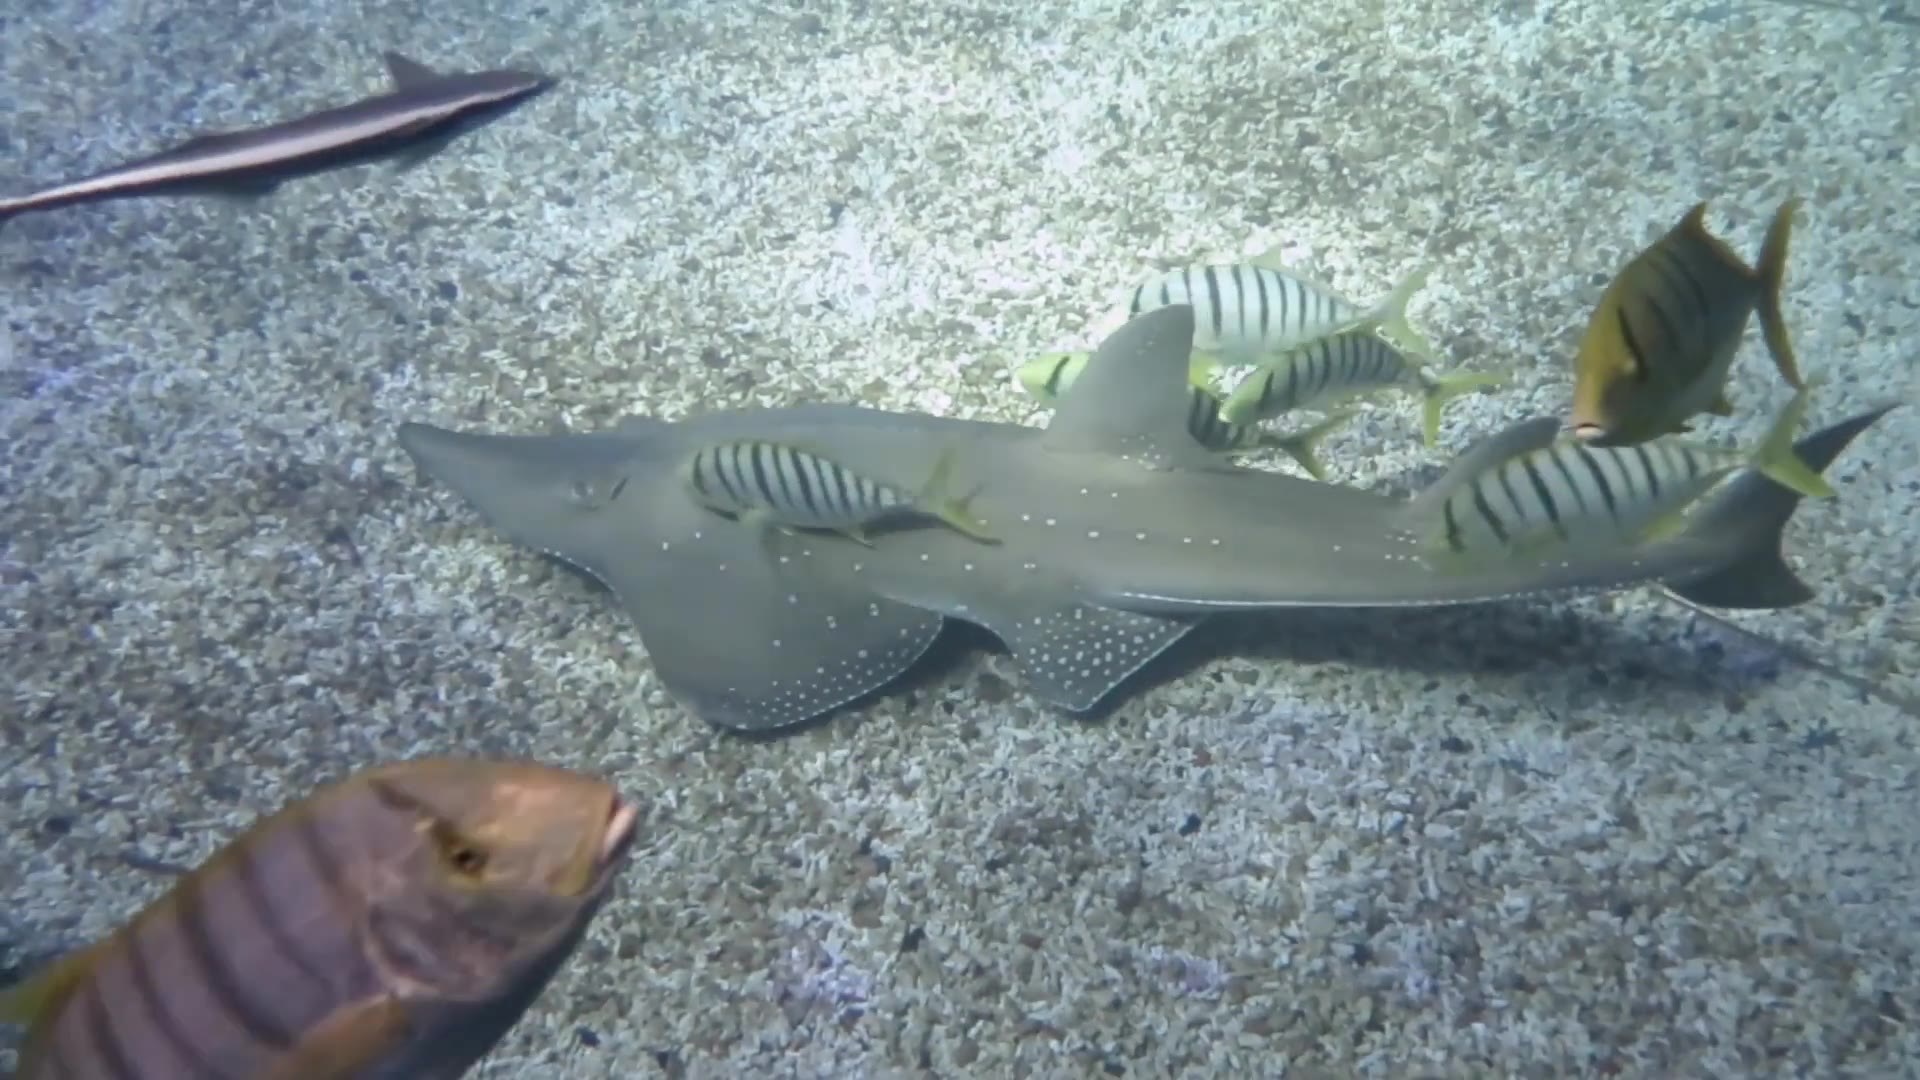Rhychobatus djiddensis: (407, 239, 1871, 765)
